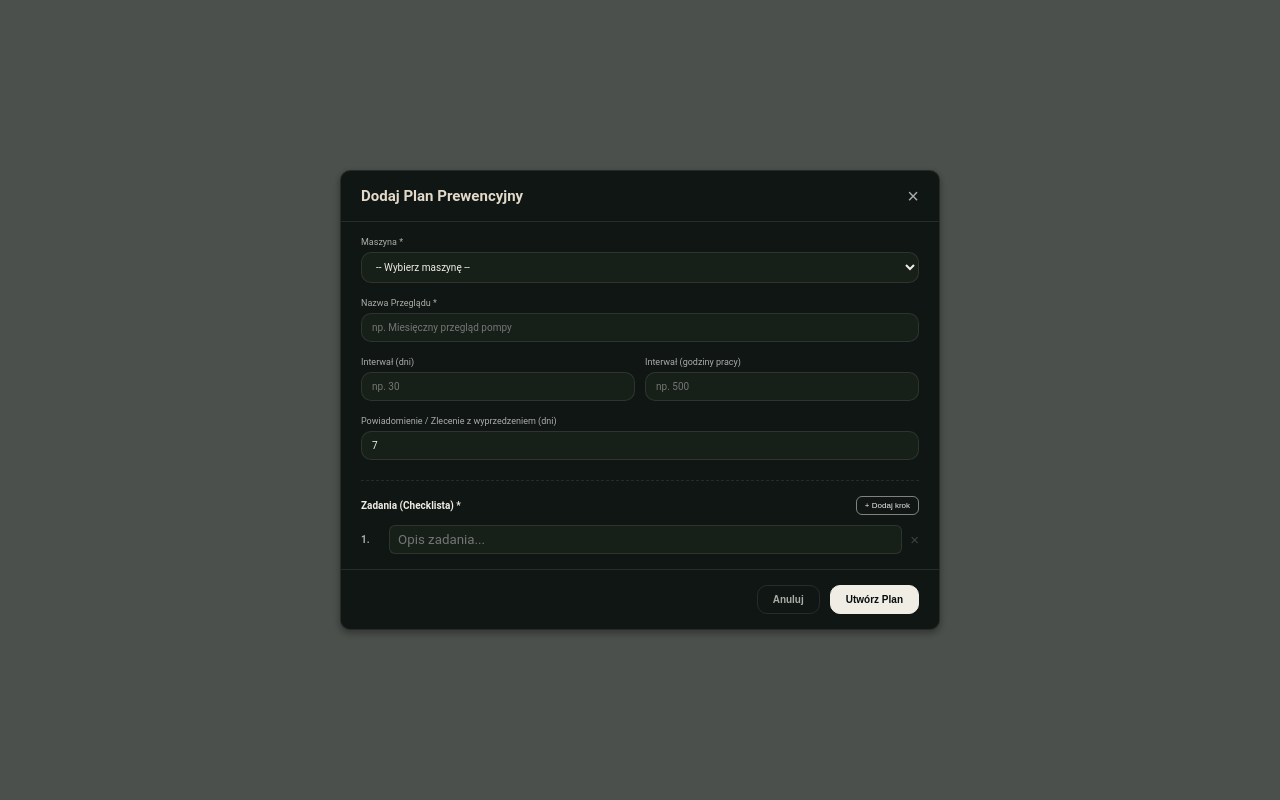
PreventiveModal › walidacja › wyświetla błąd gdy brak interwału
Select "Tokarka CNC (SN-001)" in the dropdown showing "-- Wybierz maszynę --". click: (640, 268)
box: [361,252,919,283]
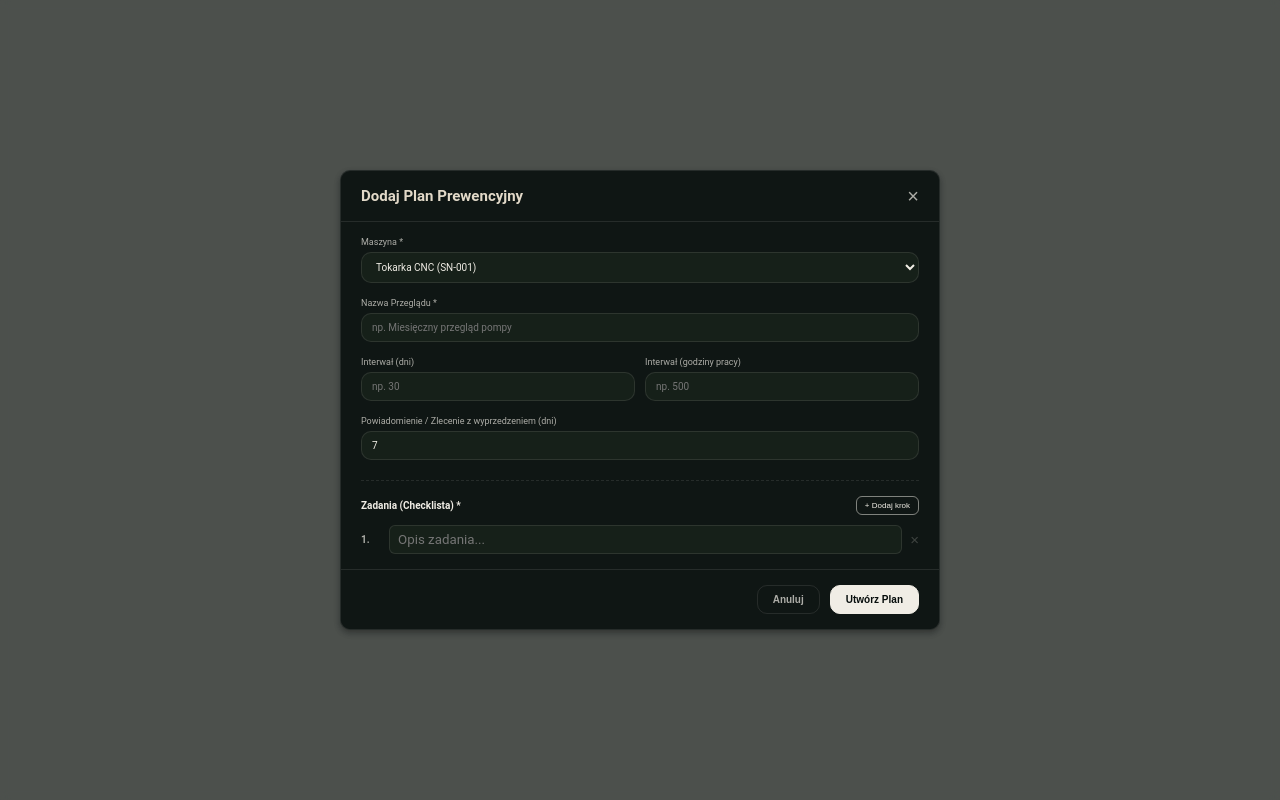
Type "Test plan" into the field with placeholder "np. Miesięczny przegląd pompy". click: (640, 328)
box: [361,313,919,342]
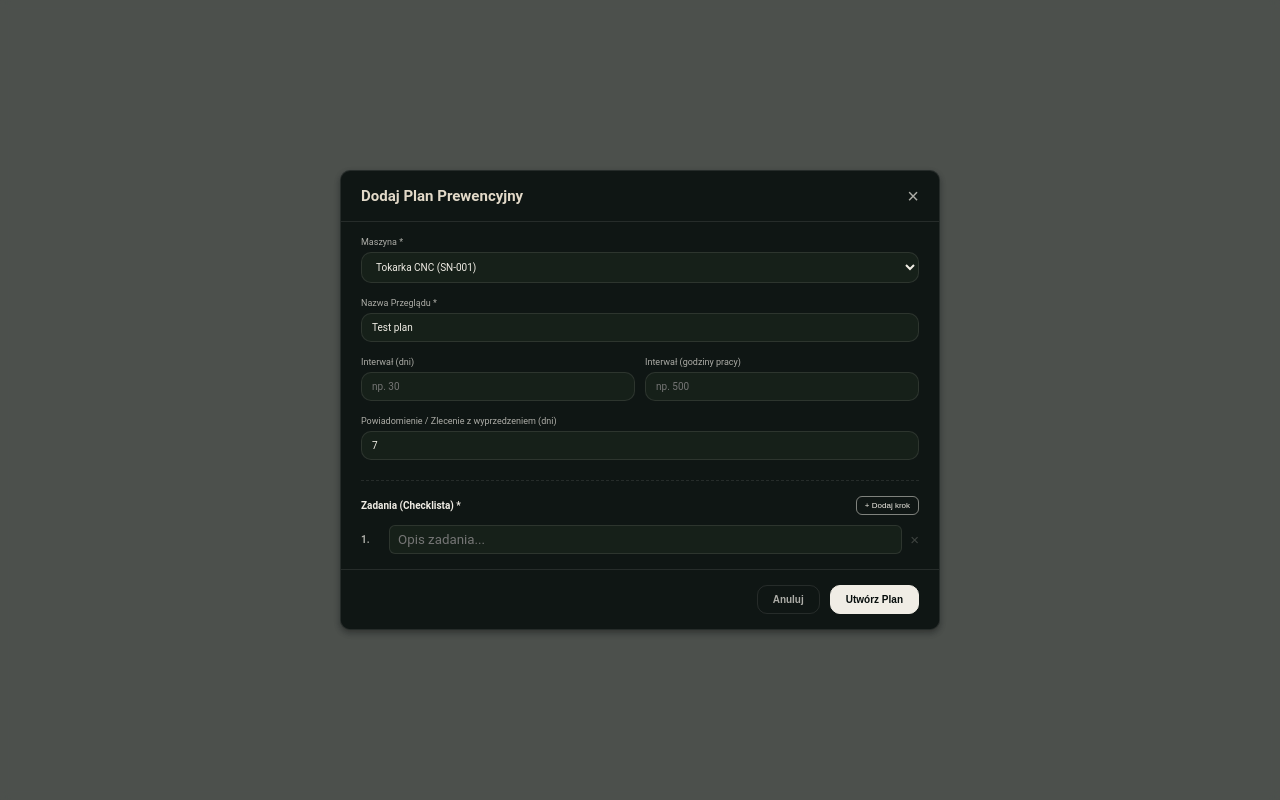
Type "Krok 1" into the field with placeholder "Opis zadania...". click: (646, 540)
box: [389,525,902,554]
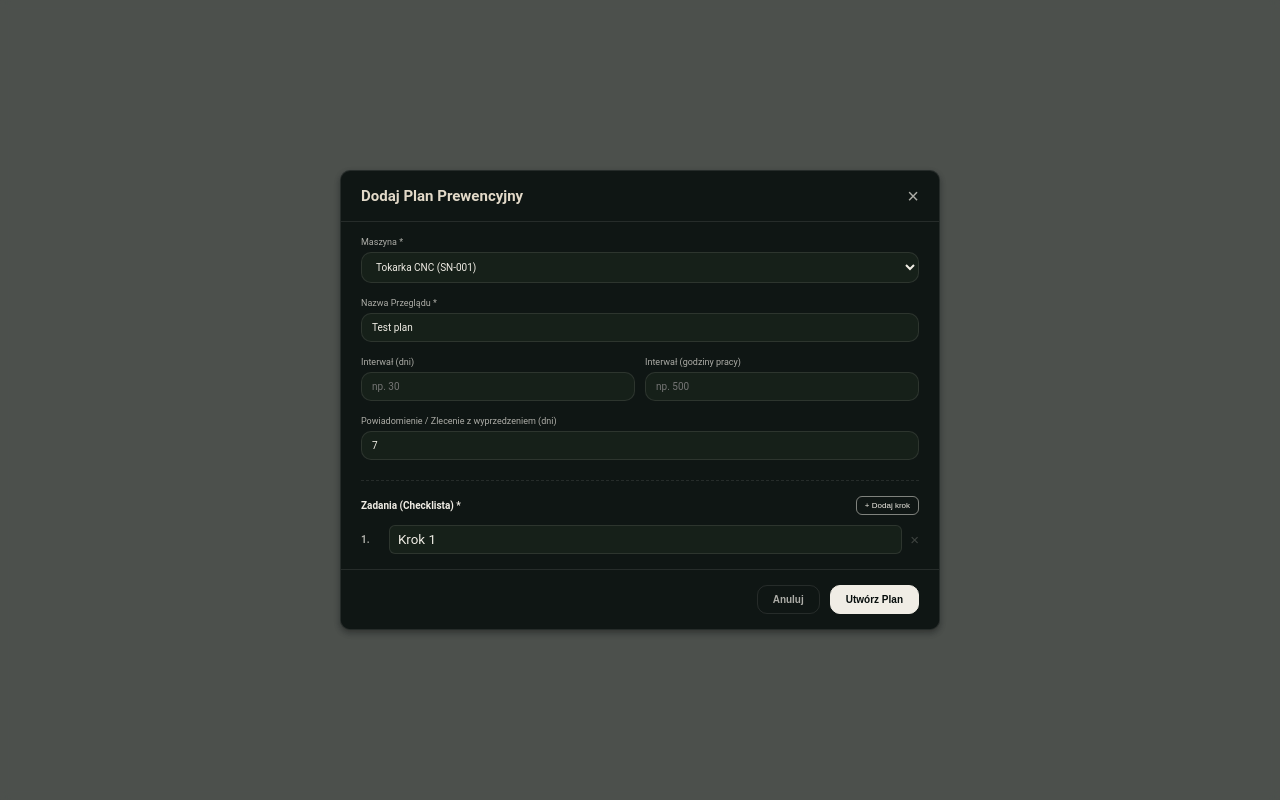
Click the button "Utwórz Plan". click: (874, 600)
box: [830,585,919,614]
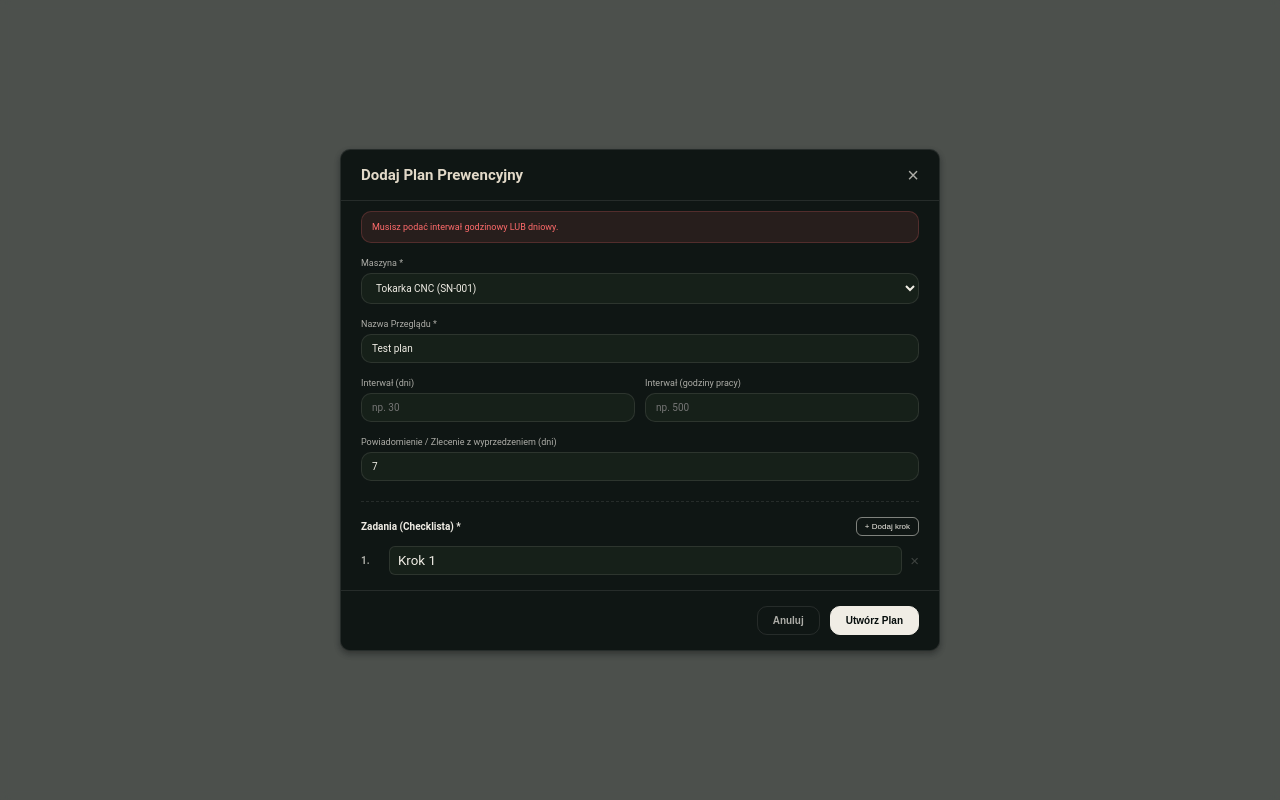
Now the text "Musisz podać interwał godzinowy LUB dniowy." is shown, box [361,211,919,243]
